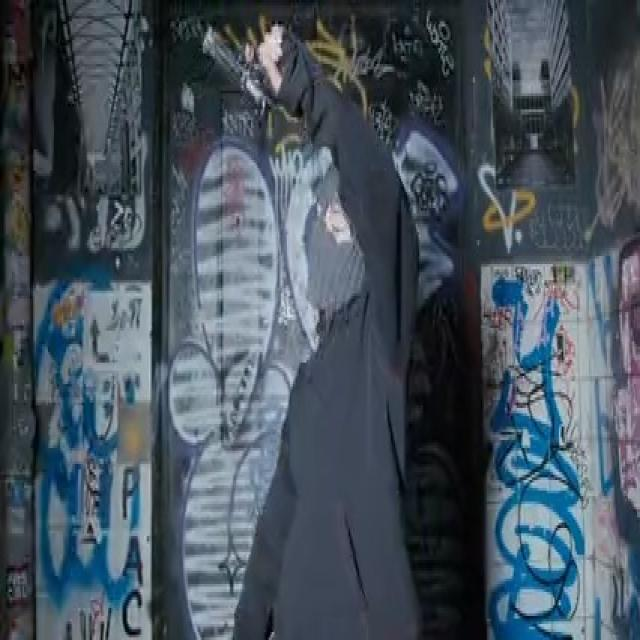Gun_Holder: (198, 1, 314, 129)
Person: (230, 141, 426, 640)
